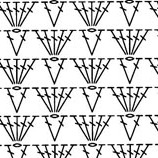enseble_chain: (85, 110, 123, 148), (9, 110, 46, 148), (122, 82, 158, 118), (122, 25, 157, 61), (46, 82, 81, 118), (11, 54, 45, 90), (86, 54, 120, 90), (48, 26, 82, 61), (105, 23, 136, 60), (28, 81, 59, 118), (106, 80, 136, 117), (11, 0, 44, 33), (68, 111, 98, 147), (29, 24, 58, 61), (83, 0, 117, 31), (6, 27, 37, 61), (68, 53, 97, 87), (47, 113, 76, 146), (120, 113, 149, 145), (83, 28, 111, 60), (67, 0, 95, 31), (47, 56, 74, 88), (122, 56, 149, 88), (83, 85, 110, 116), (8, 86, 35, 116), (47, 0, 73, 31), (122, 0, 148, 30), (0, 55, 22, 87), (0, 113, 22, 145), (0, 0, 22, 30), (132, 139, 157, 158), (123, 143, 133, 158)
fan: (73, 0, 96, 29), (7, 1, 24, 29), (85, 0, 101, 27)
